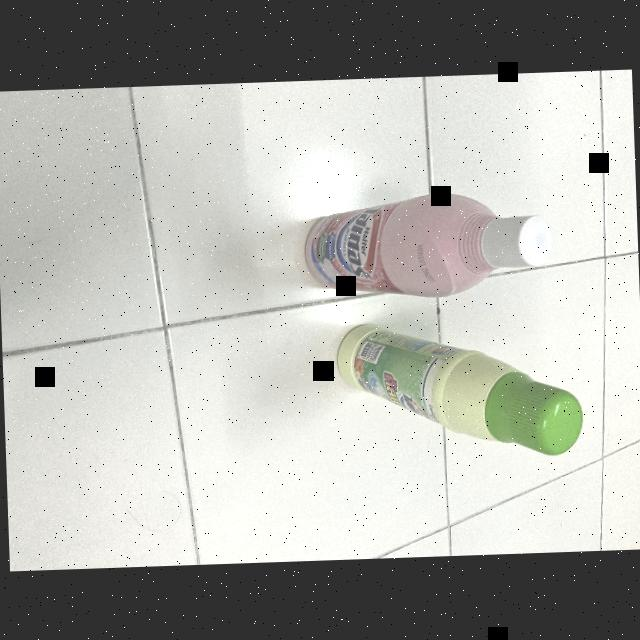chemical_plastic_bottle: (335, 314, 592, 474), (298, 188, 555, 304)
